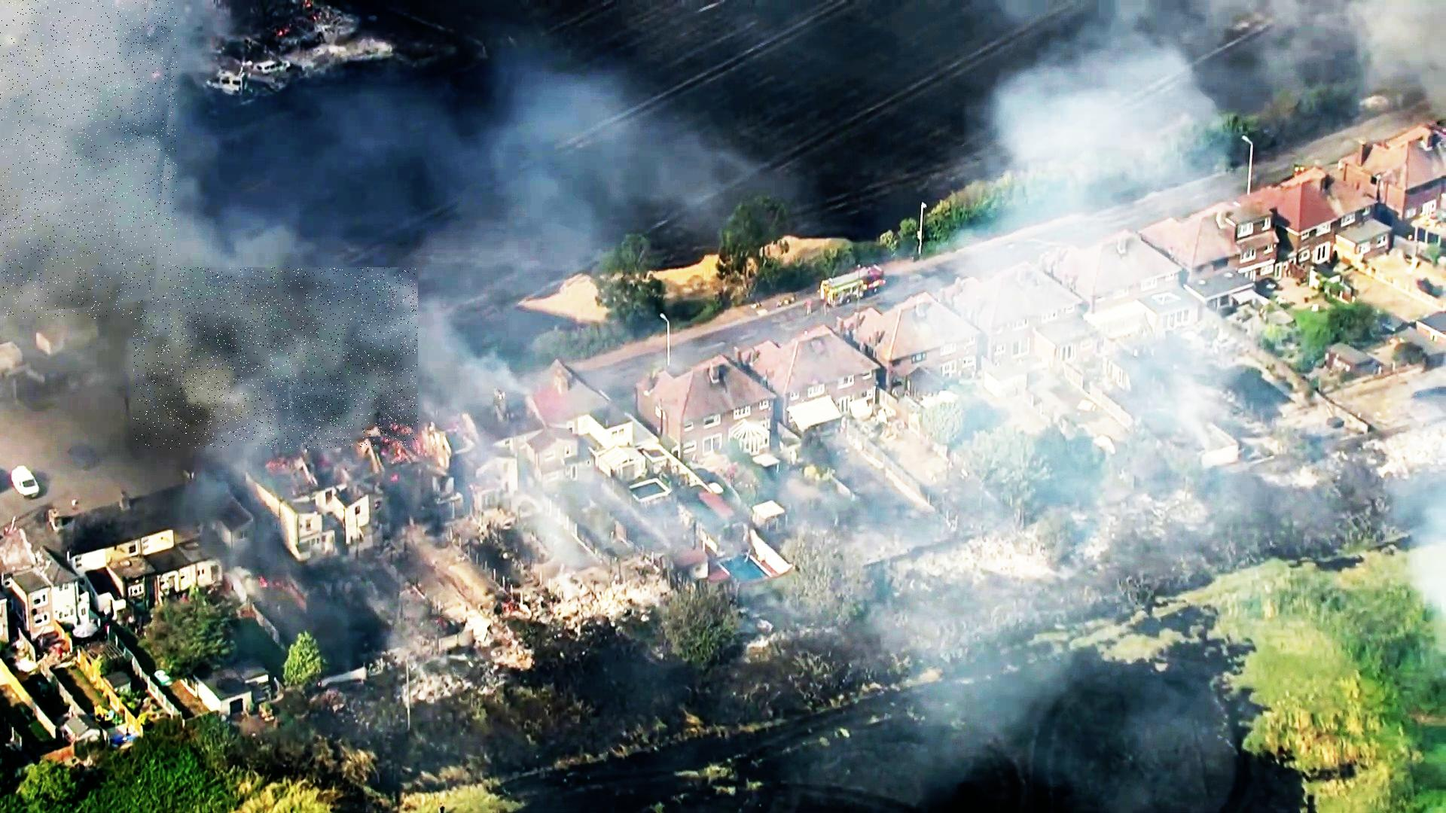smoke: (0, 0, 177, 318), (134, 268, 418, 449)
